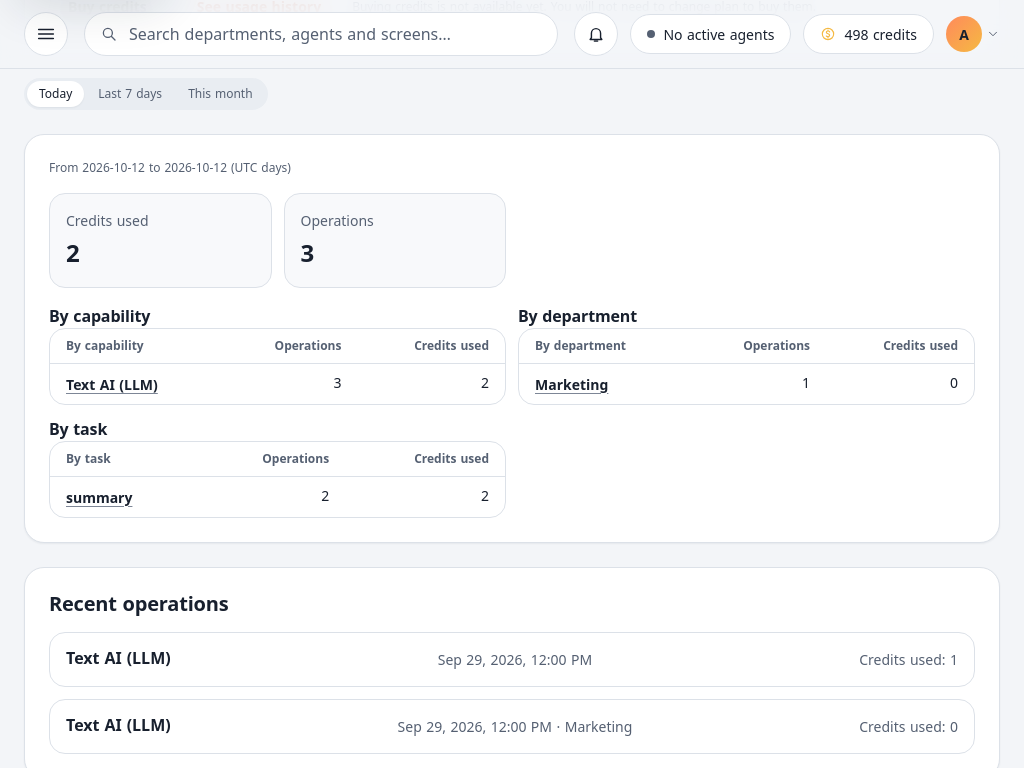
Test case: AI usage and credits (ADR-0074, ADR-0081, ADR-0082) › filters the recent operations by a breakdown row
(page scrolled)
Expected: the text "Text AI (LLM)" is shown 2 times, [66,649,171,668]; [66,716,171,736]
Click the button "Marketing". click: coordinates (572, 384)
box: [535,372,608,396]
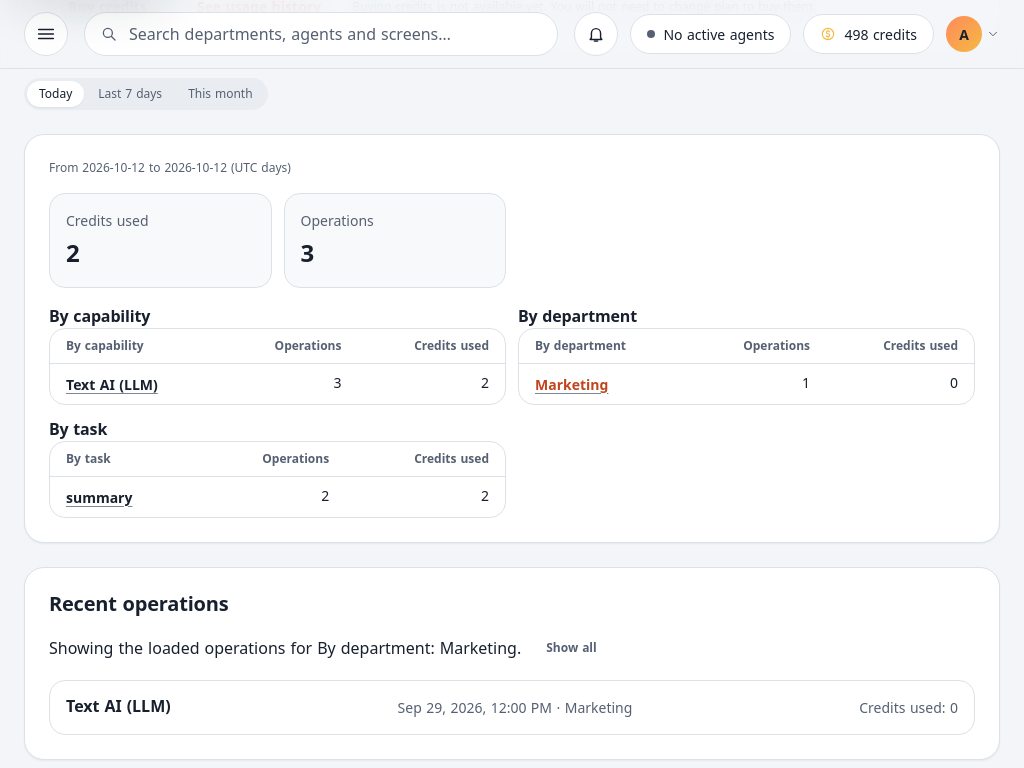
Result: the text "Showing the loaded operations for By department: Marketing. Show all" is shown at [49,632,610,664]
Result: the text "Text AI (LLM)" is shown once at [66,697,171,716]
Click the button "Show all". click: coordinates (572, 648)
box: [533,632,610,664]
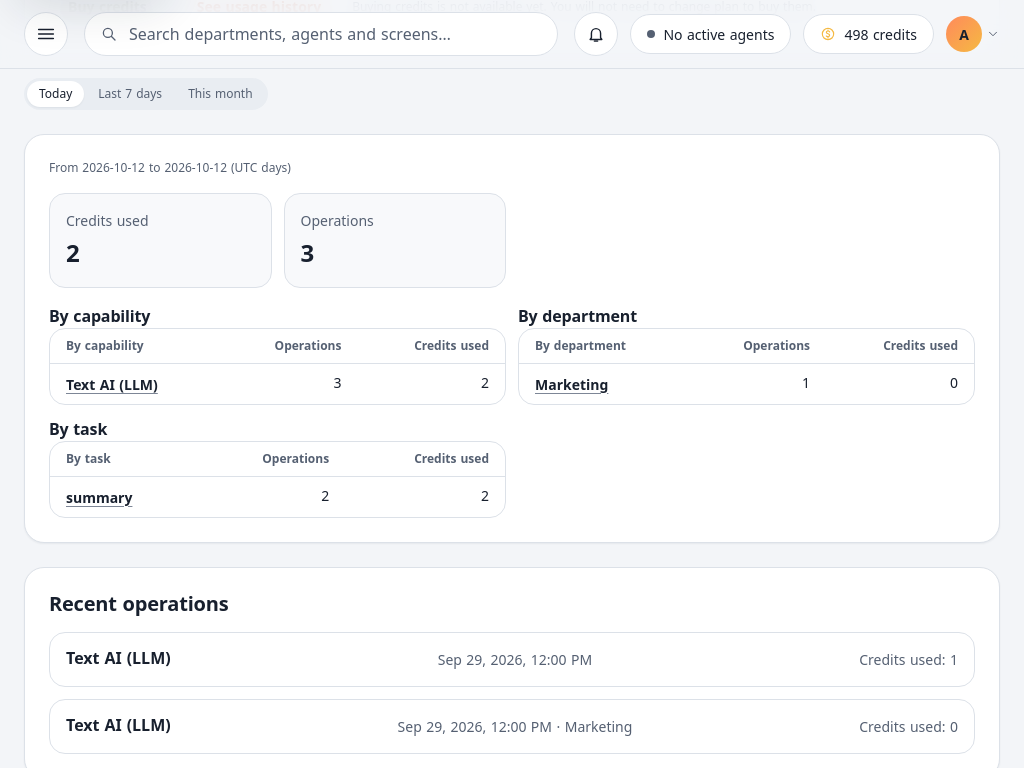
Result: the text "Text AI (LLM)" is shown 2 times at [66,649,171,668]; [66,716,171,736]
